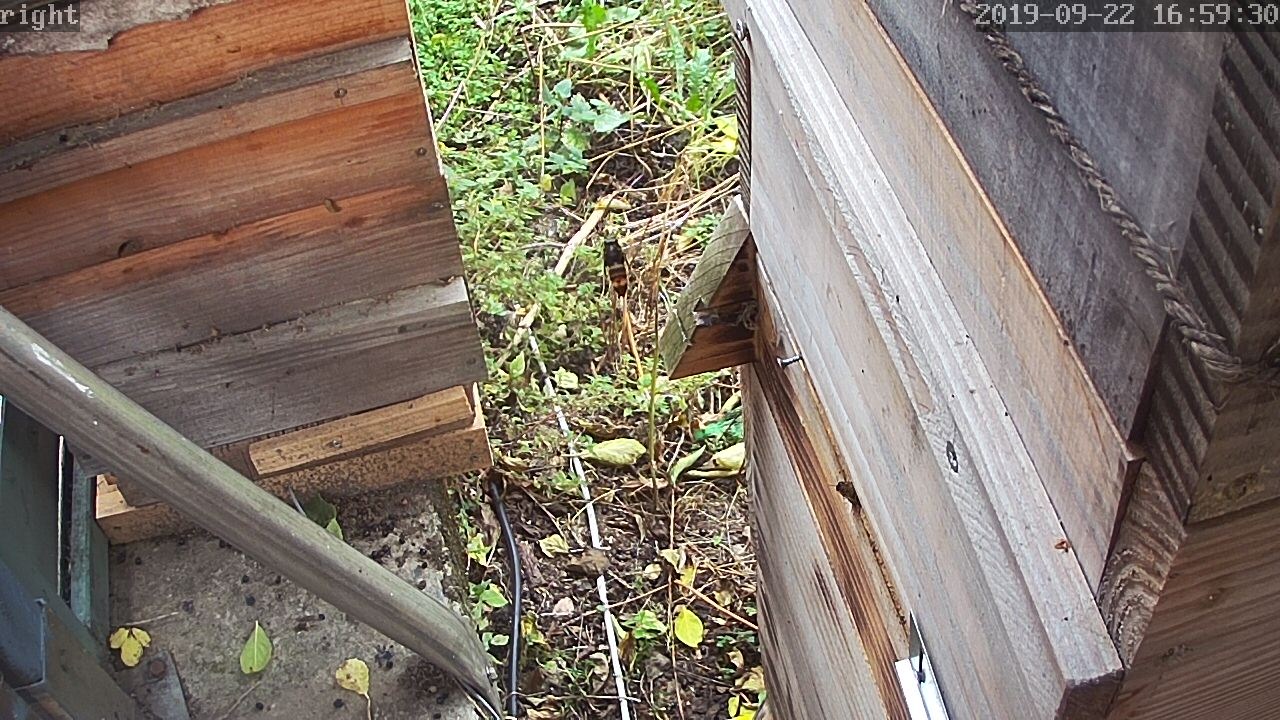bee: (824, 476, 853, 505)
hornet: (590, 231, 644, 309)
